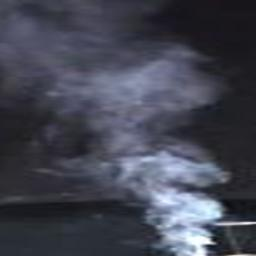smoke: (0, 0, 228, 255)
